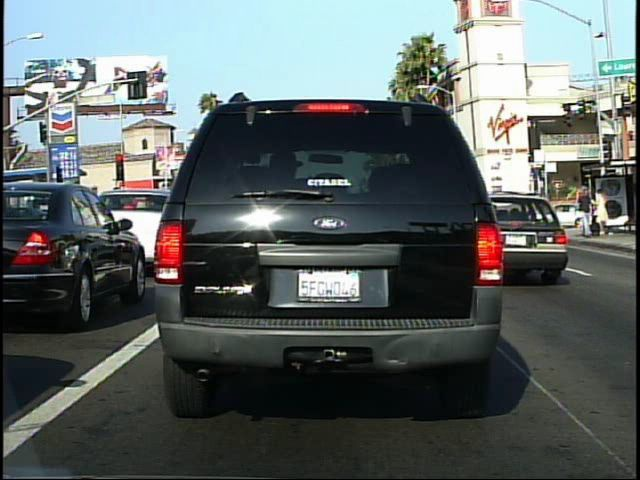person: (594, 185, 614, 237), (576, 186, 594, 238)
